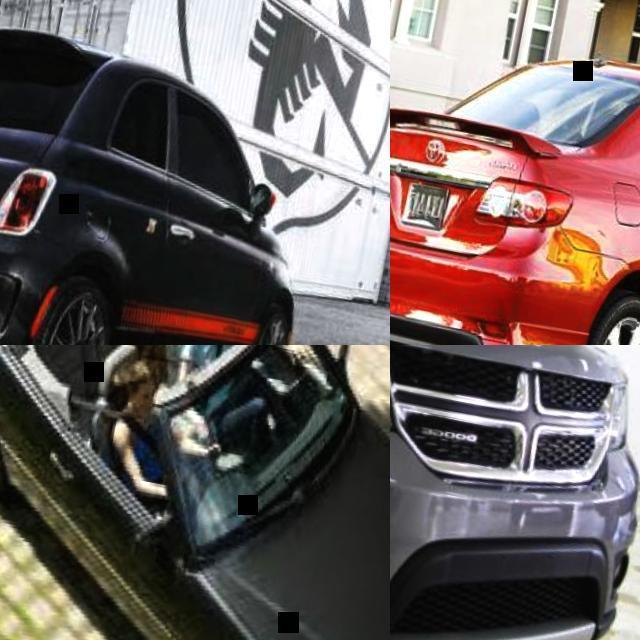car: (385, 62, 639, 639), (162, 340, 362, 547)
